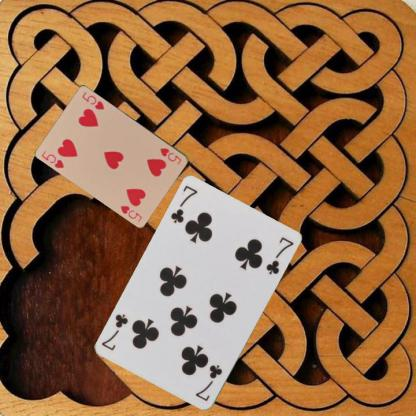5h: (39, 148, 66, 170), (158, 145, 182, 166)
7c: (167, 183, 200, 225), (193, 362, 224, 404)
